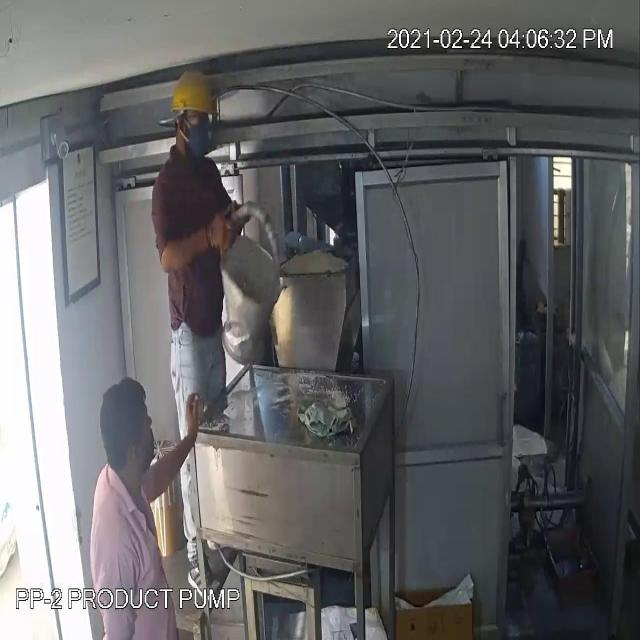helmet: (166, 64, 226, 134)
no-helmet: (95, 380, 155, 448)
